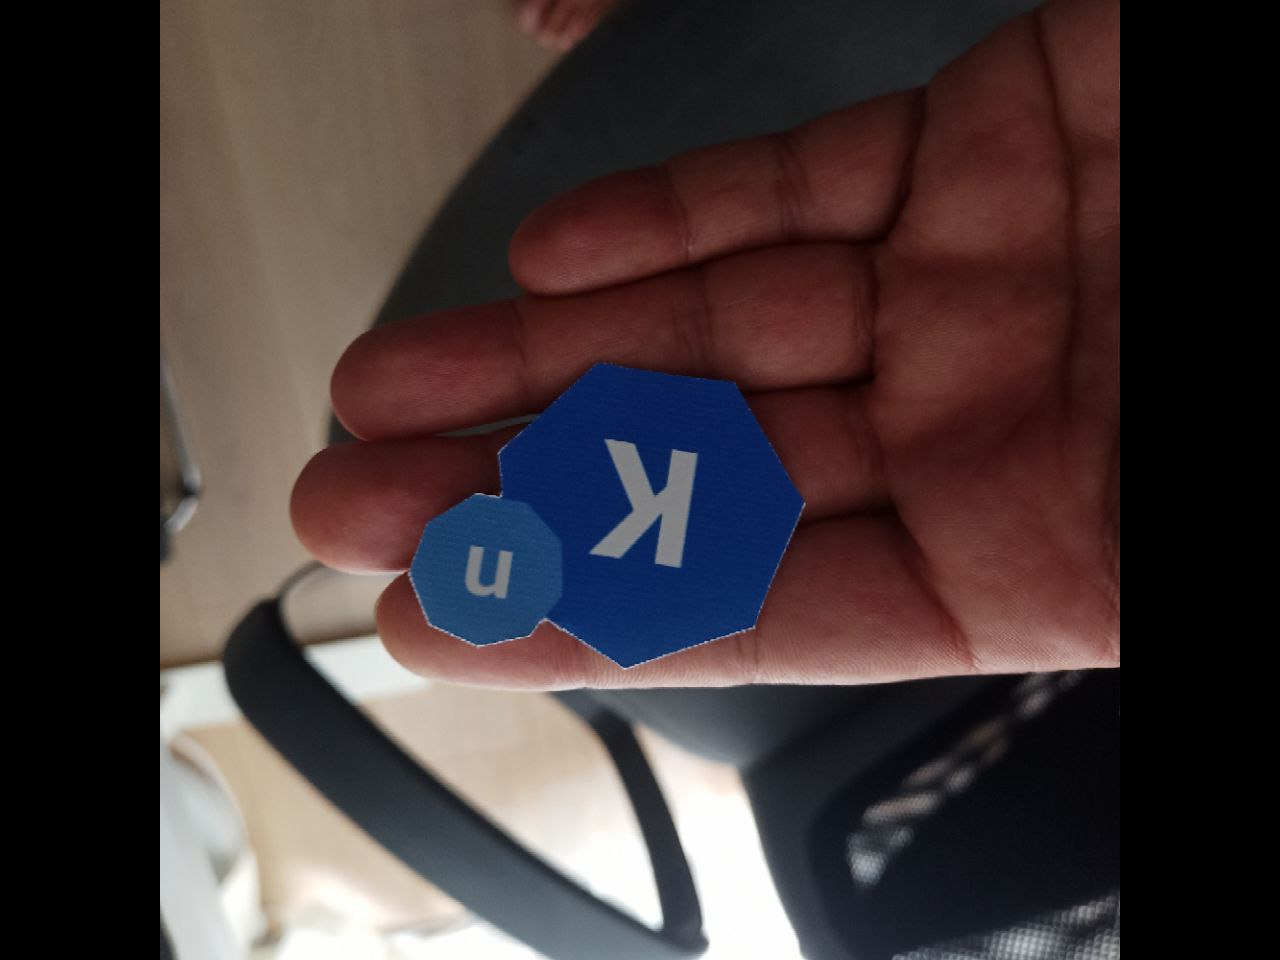knative: (405, 365, 813, 676)
